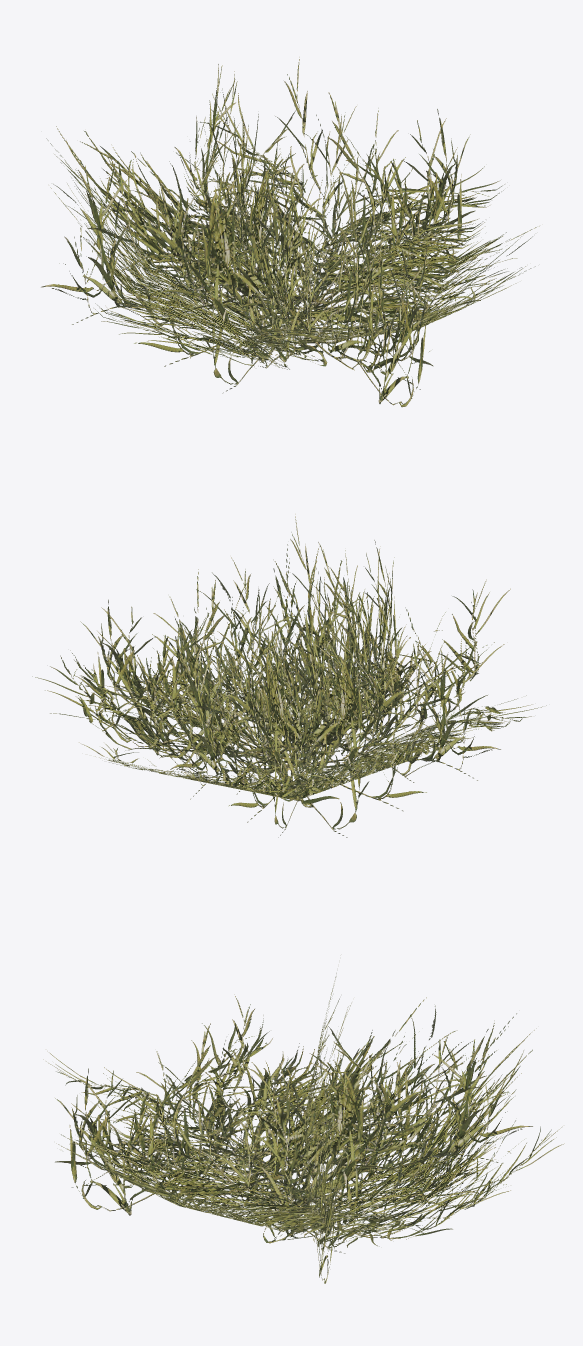
The model's file is SM_FOL_Grass_Clump_03_A.fbx.
3 views of the same model, one above another, from view 1: azimuth 30°, elevation 25°; view 2: azimuth 150°, elevation 25°; view 3: azimuth 270°, elevation 25° (orthographic). The views are drawn at different scales.
Visible parts, largest first — view 1: SM_FOL_Grass_Clump_03_A; view 2: SM_FOL_Grass_Clump_03_A; view 3: SM_FOL_Grass_Clump_03_A.
Part boxes in pixels (left/top/right/bottom): SM_FOL_Grass_Clump_03_A: left=41, top=57, right=539, bottom=407; SM_FOL_Grass_Clump_03_A: left=32, top=514, right=546, bottom=837; SM_FOL_Grass_Clump_03_A: left=43, top=973, right=564, bottom=1283.
Size of the model in its own units: 110 by 62.31 by 111.
1 material, 1 textured.
